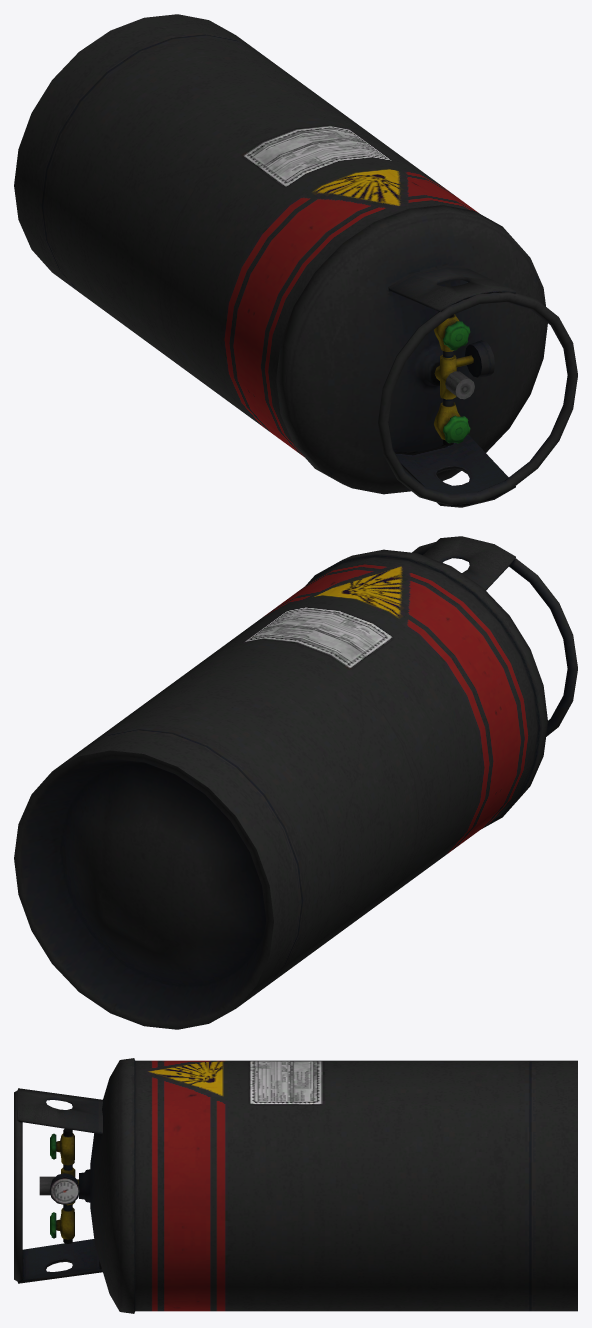
Rendered from p6_nitrogen_tank_new_LOD0.obj.
3 renders of one model, top to bottom at view 1: azimuth 30°, elevation 25°; view 2: azimuth 150°, elevation 25°; view 3: azimuth 270°, elevation 25°, orthographic. The views are drawn at different scales.
Visible parts, largest first — view 1: mtl_p6_nitrogen_tank_new; view 2: mtl_p6_nitrogen_tank_new; view 3: mtl_p6_nitrogen_tank_new.
Part boxes in pixels (box(x1,y1,x2,y2)): mtl_p6_nitrogen_tank_new: box(14, 14, 577, 507); mtl_p6_nitrogen_tank_new: box(14, 536, 577, 1029); mtl_p6_nitrogen_tank_new: box(14, 1058, 577, 1313).
Size of the model in its own units: 73.05 by 73.05 by 160.
